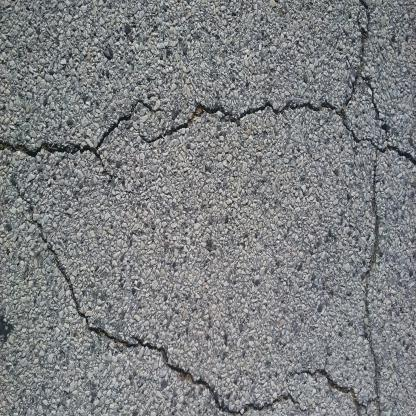Cracks: (0, 163, 296, 416), (0, 84, 415, 166), (343, 0, 388, 416), (290, 361, 368, 415)
